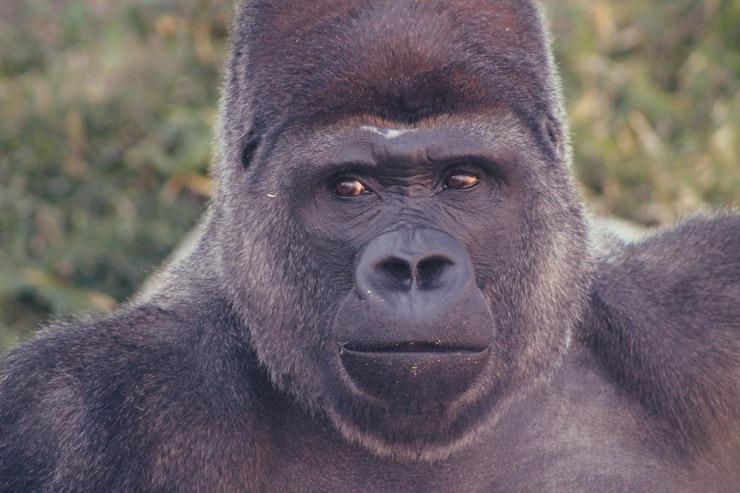gorille_Autres: (68, 0, 740, 493)
